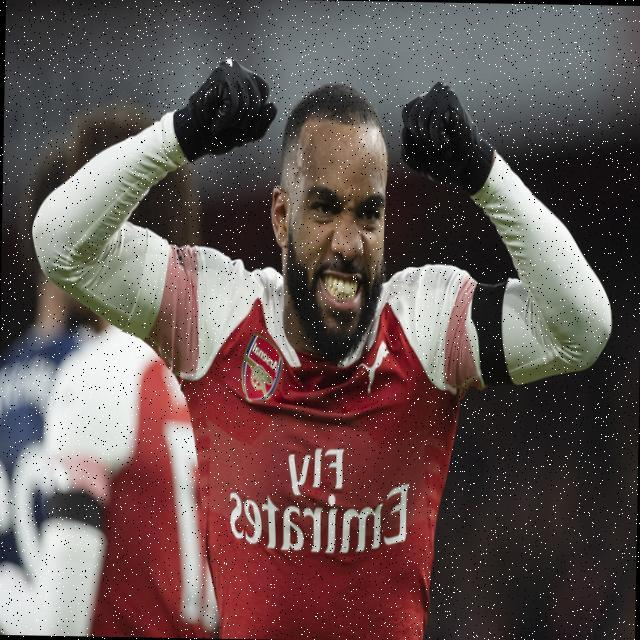Emirates: (227, 478, 410, 556)
Puma: (356, 339, 389, 395)
